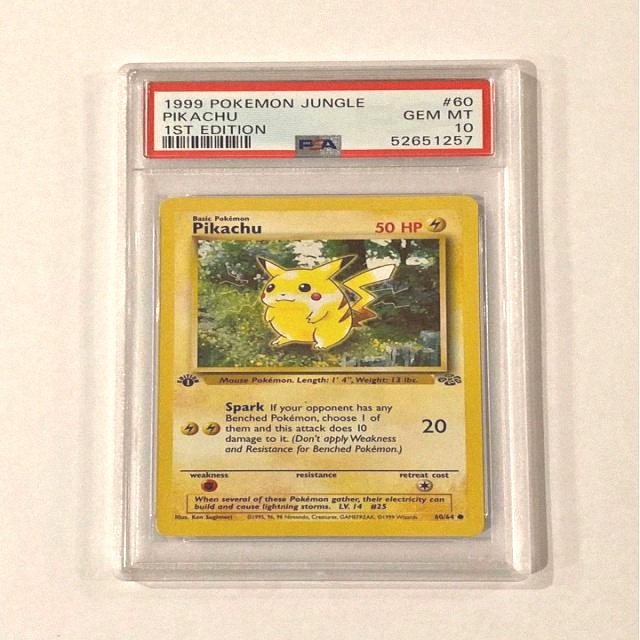card: (155, 195, 485, 537)
